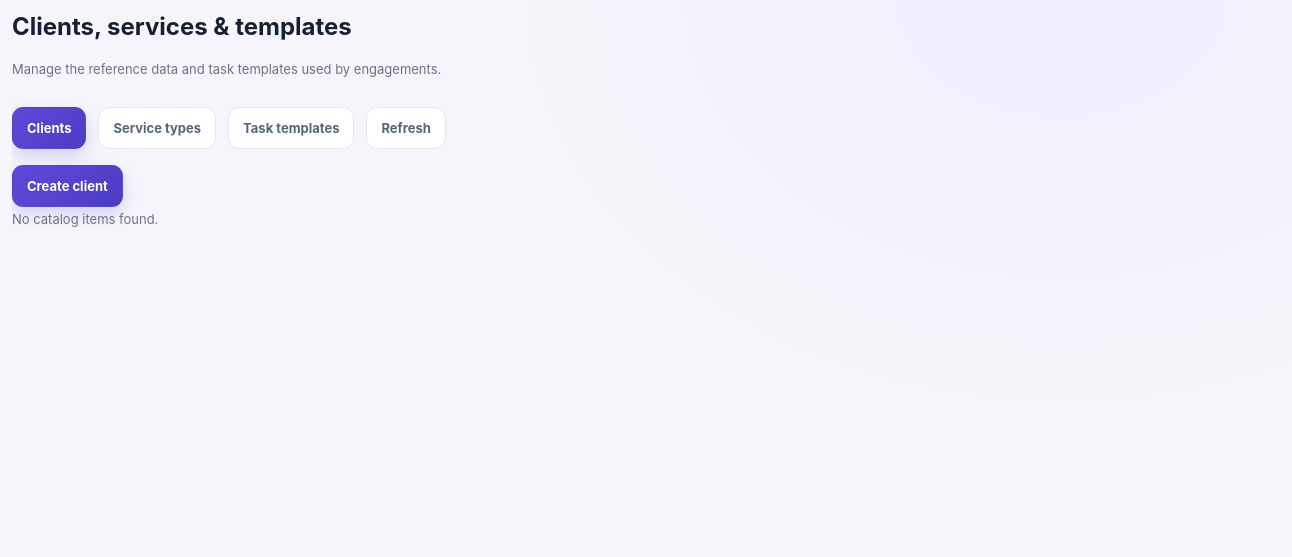
Test: role-based management screens › allows an administrator to create a client through Axios
This screenshot has width=1292, height=557.
Expected: the text "No catalog items found." is shown, [12, 211, 158, 227]
Click the button "Create client" at {"x": 67, "y": 186}, box [12, 165, 123, 207]
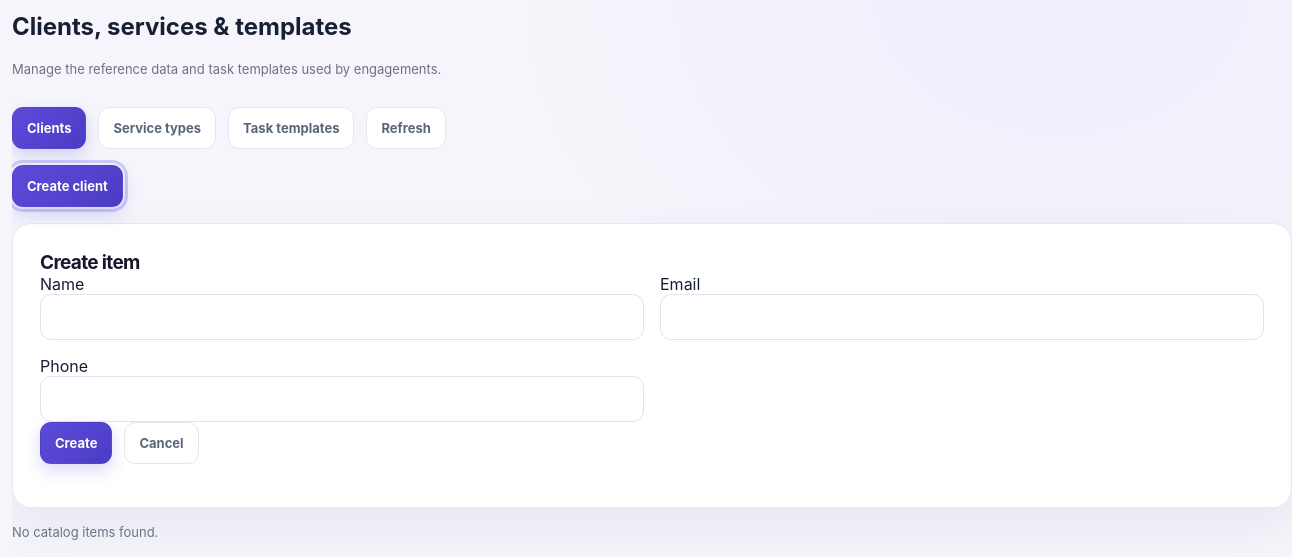
Type "Northwind" into the field labelled "Name" at {"x": 342, "y": 317}, box [40, 294, 644, 340]
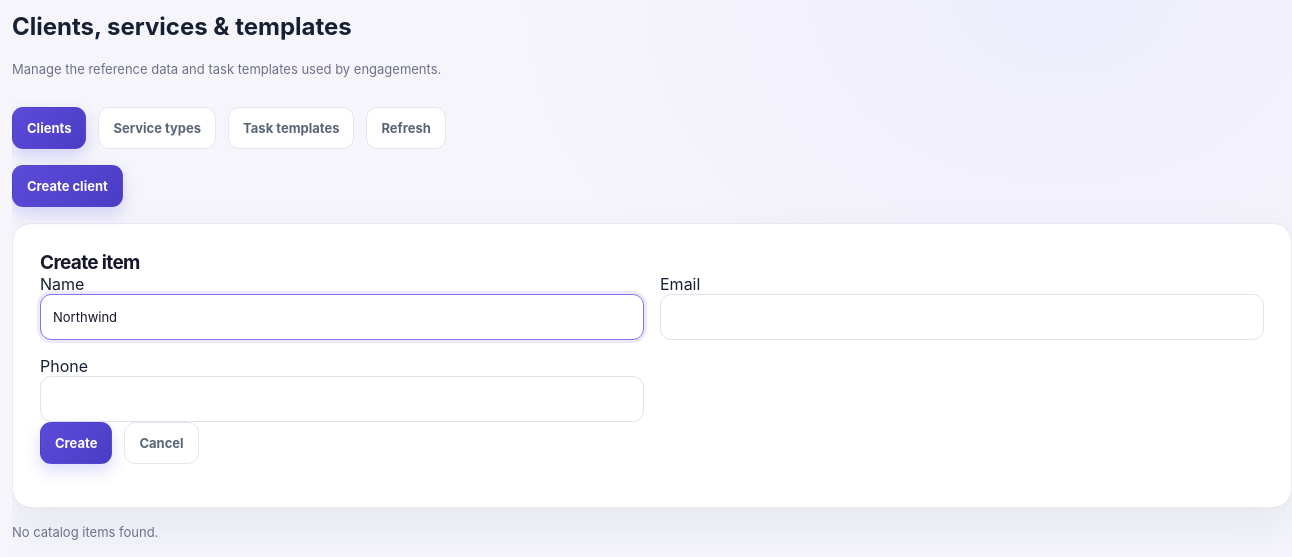
Type "contact@northwind.example" into the field labelled "Email" at {"x": 962, "y": 317}, box [660, 294, 1264, 340]
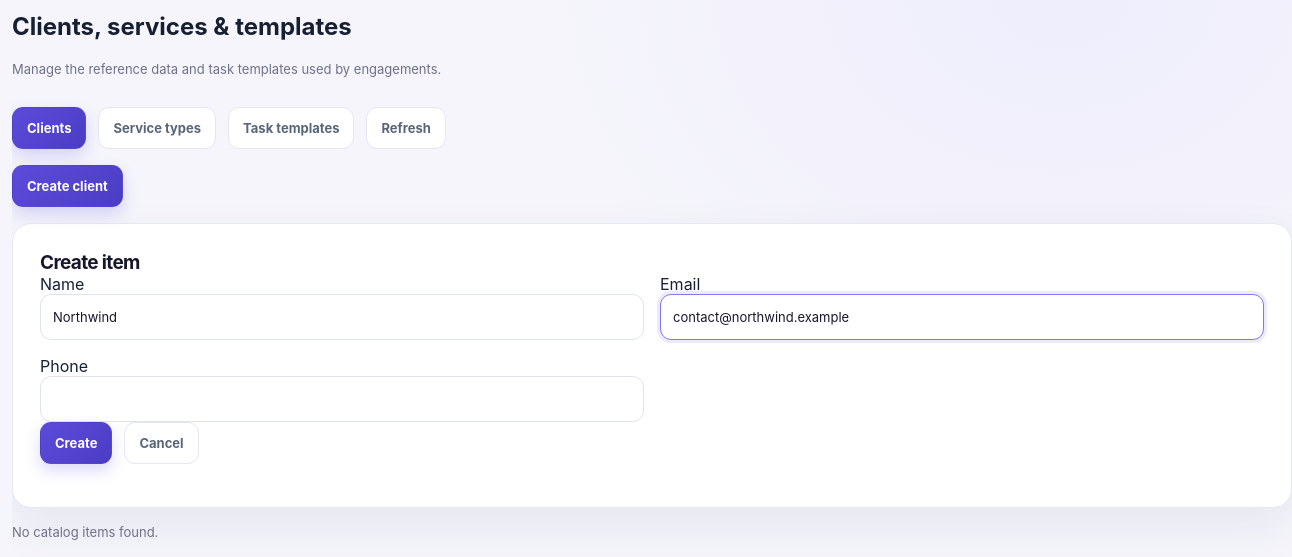
Click the button "Create" at {"x": 76, "y": 443}, box [40, 422, 112, 464]
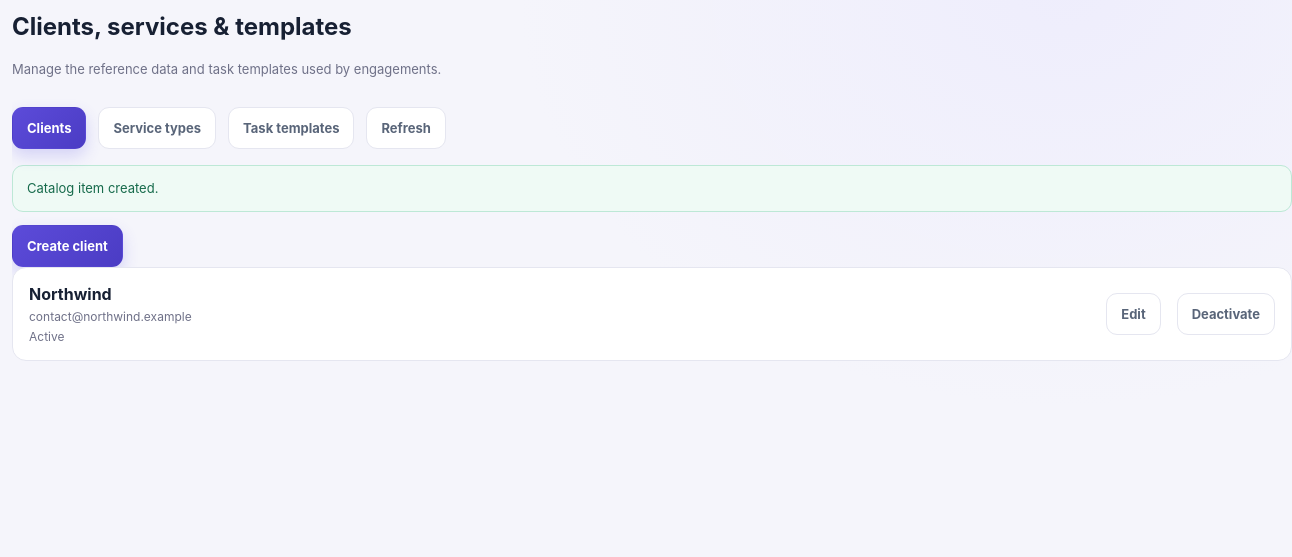
Expected: the text "Northwind" is shown, [29, 284, 112, 304]
